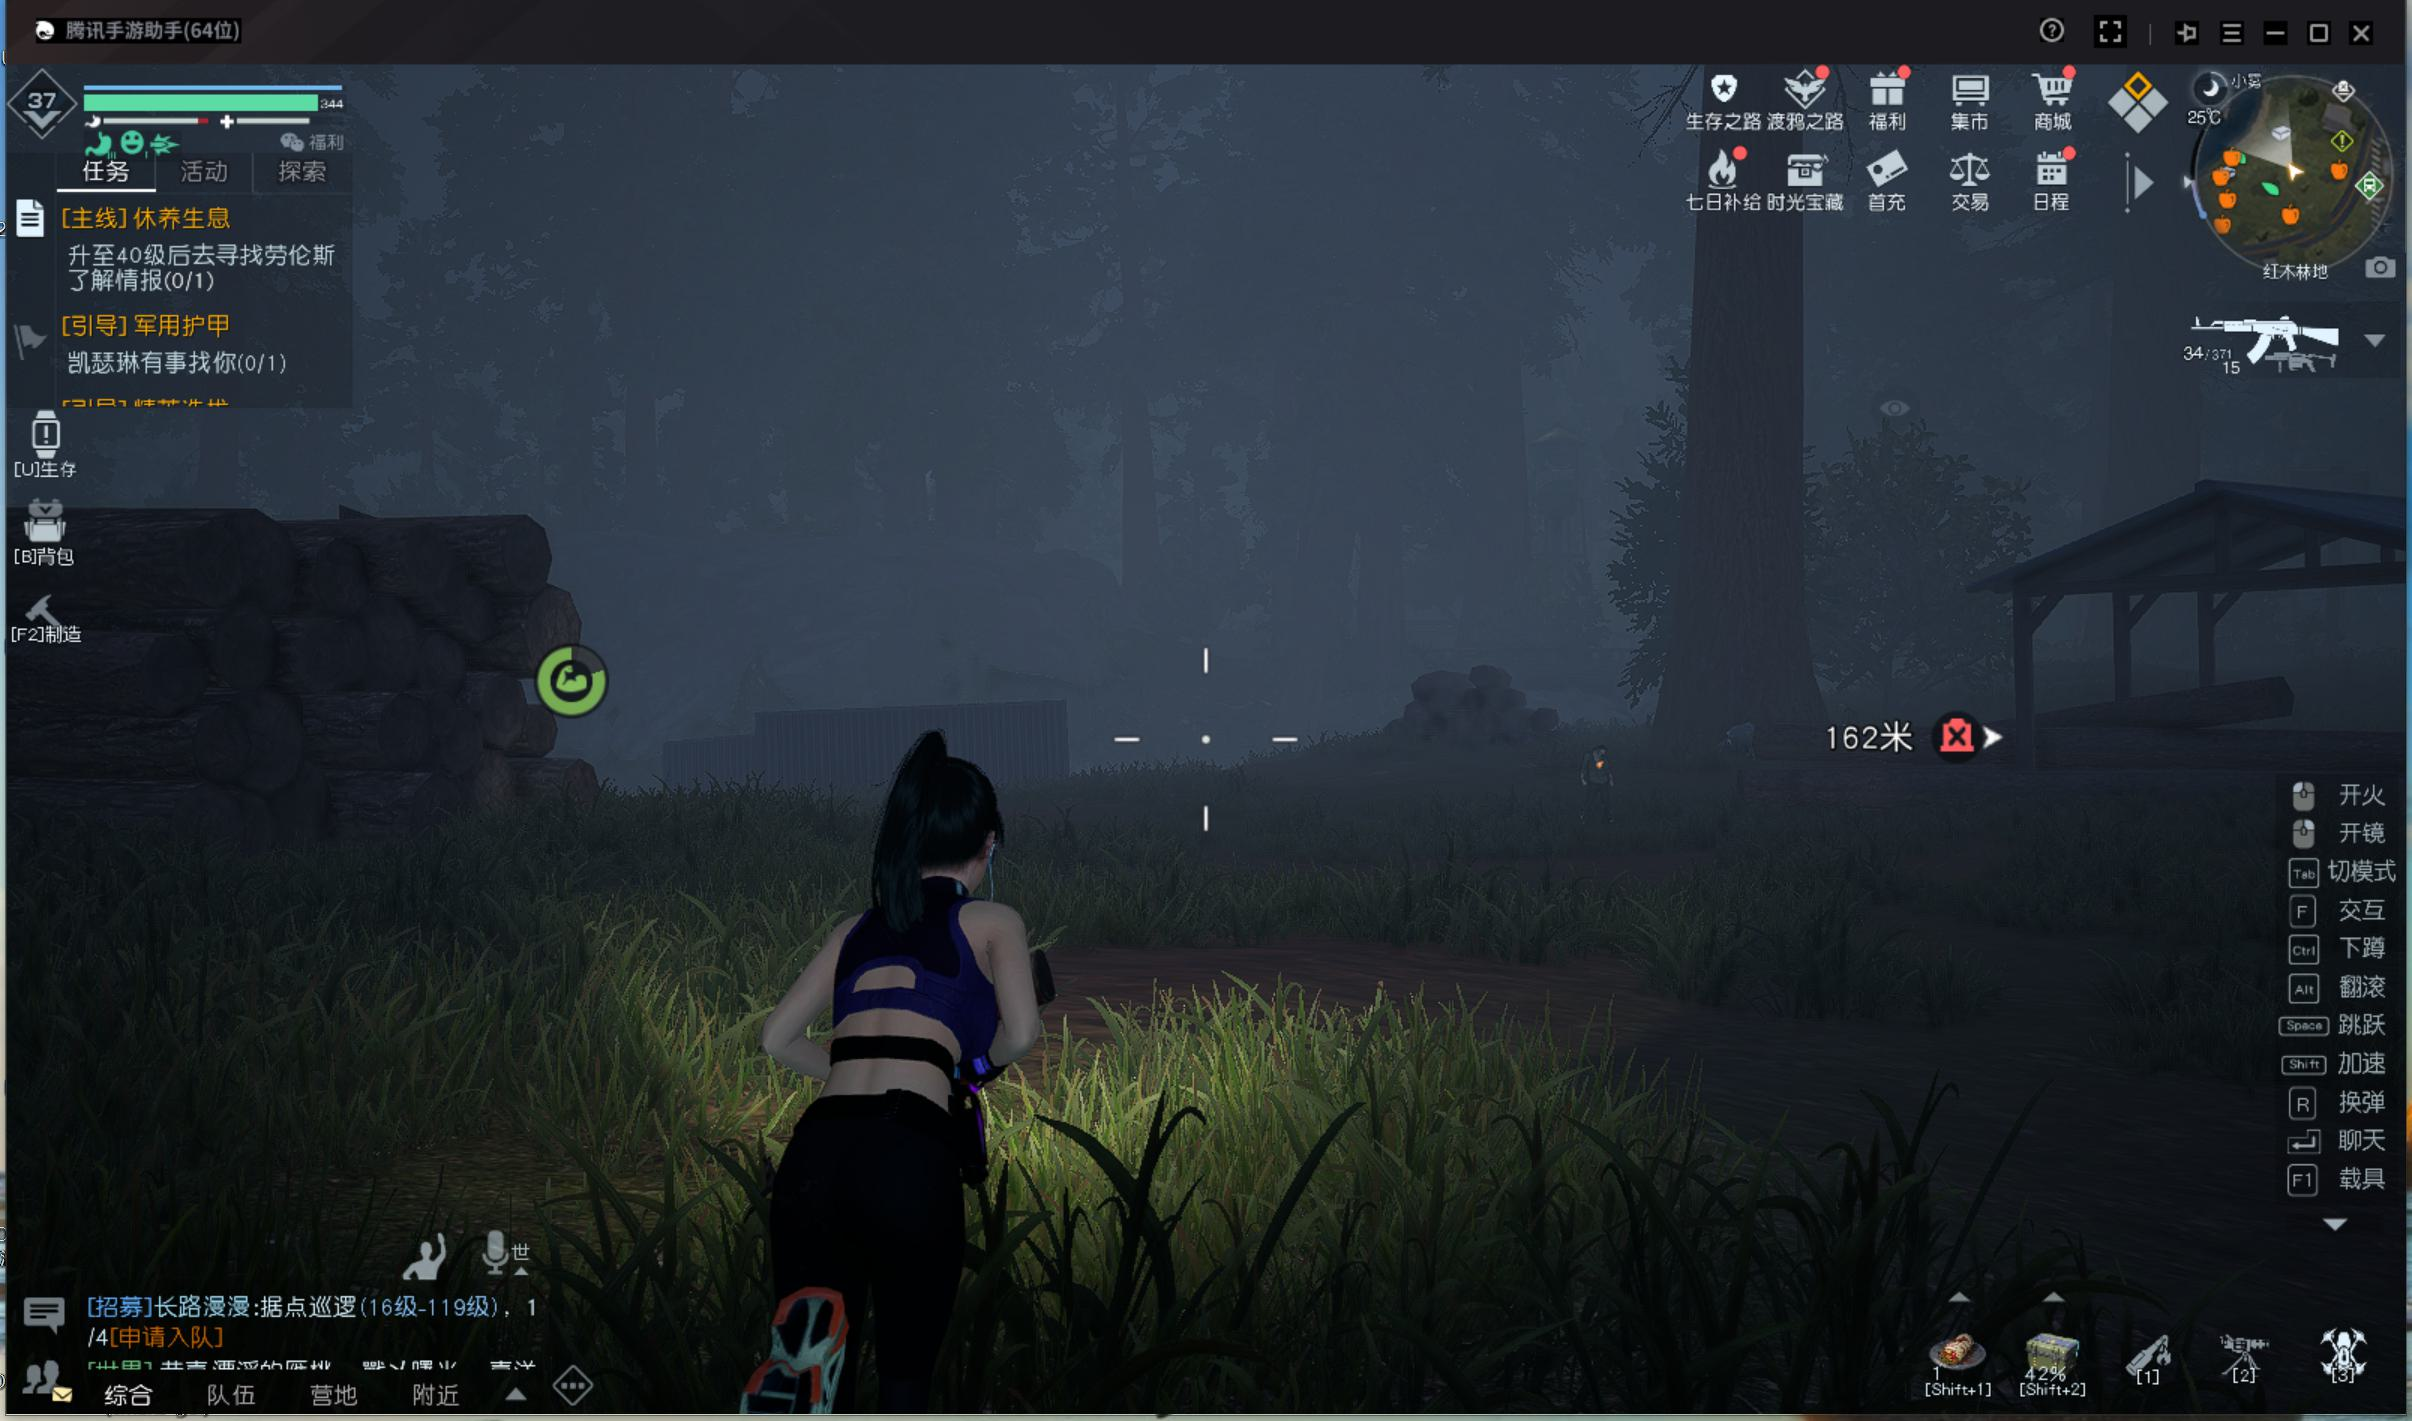tree: (1673, 198, 1817, 760), (1103, 321, 1164, 721)
